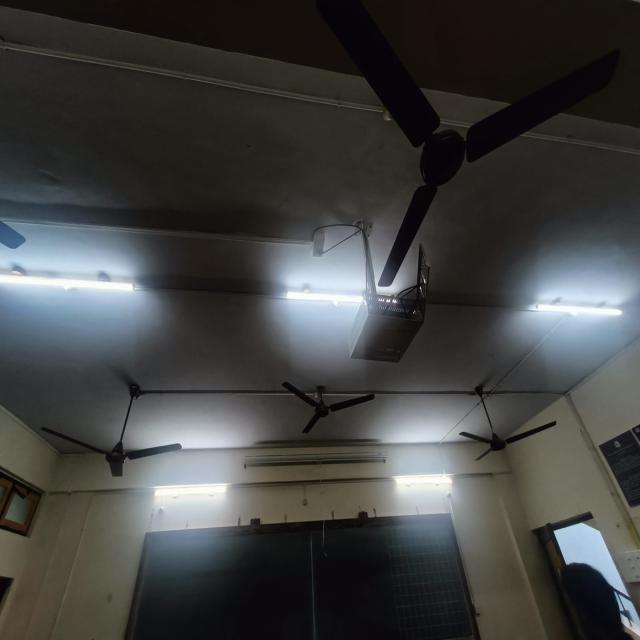fan_off: (314, 2, 620, 285), (40, 391, 183, 480), (457, 386, 557, 464), (286, 384, 376, 441)
tubelight_on: (0, 260, 138, 313), (282, 278, 403, 314), (528, 297, 628, 328), (152, 482, 230, 502), (392, 471, 456, 494)
